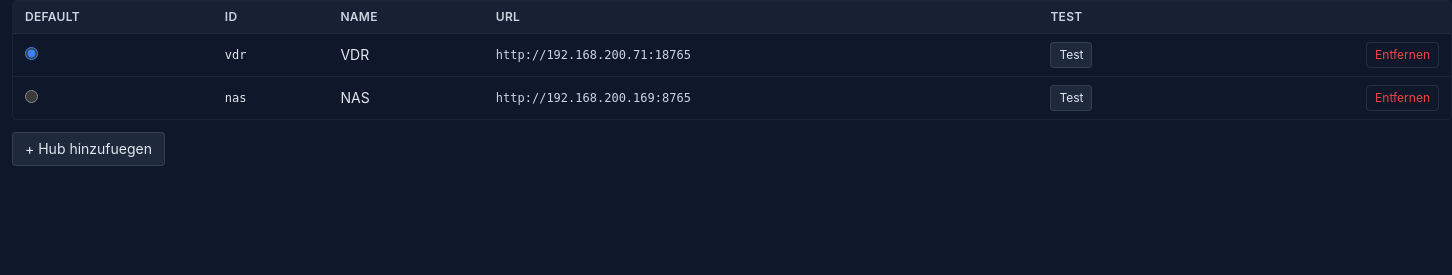
Scenario: HubListEditor › lehnt ungueltige URL im Add-Form ab
Click the button "+ Hub hinzufuegen" at (88, 149), box [12,132,165,166]
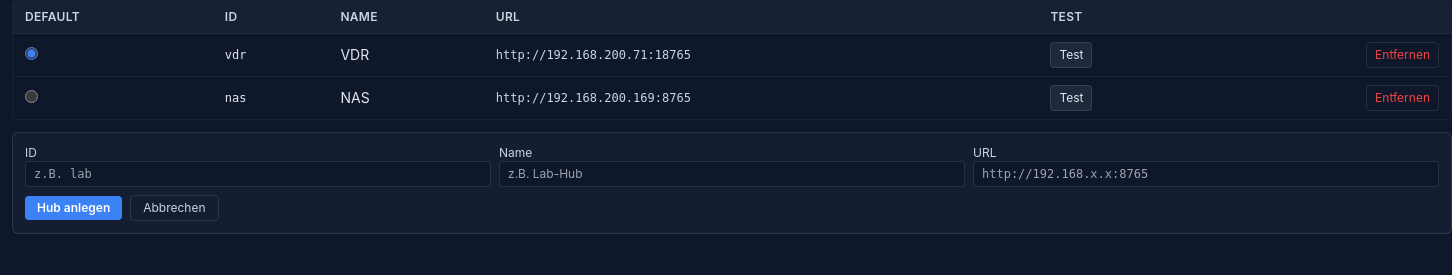
Type "lab" into the field with placeholder "z.B. lab" at (258, 174), box [25,161,491,187]
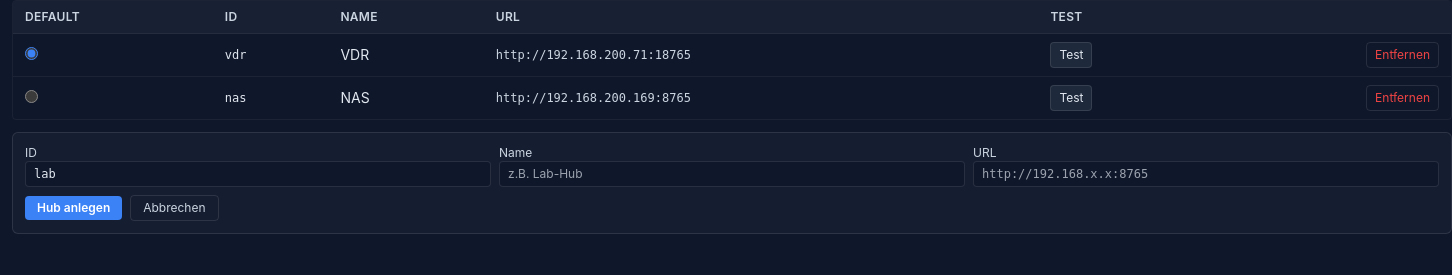
Type "Lab" into the field with placeholder "z.B. Lab-Hub" at (732, 174), box [499,161,965,187]
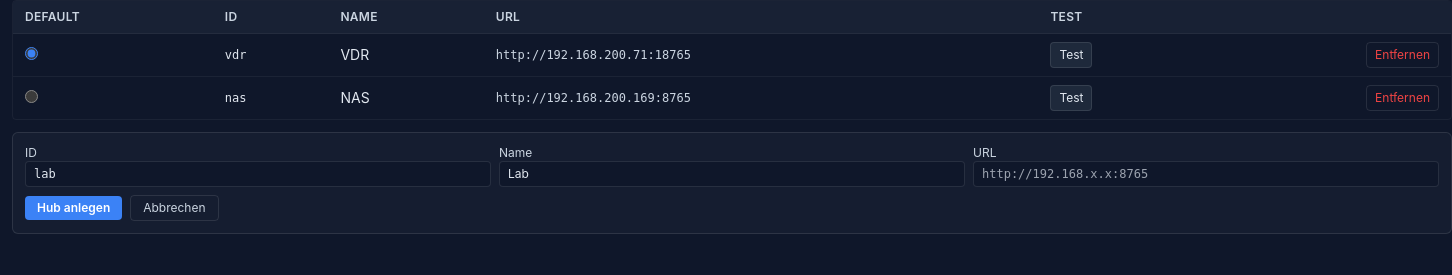
Type "10.0.0.5:8765" into the field with placeholder "http://192.168.x.x:8765" at (1206, 174), box [973,161,1439,187]
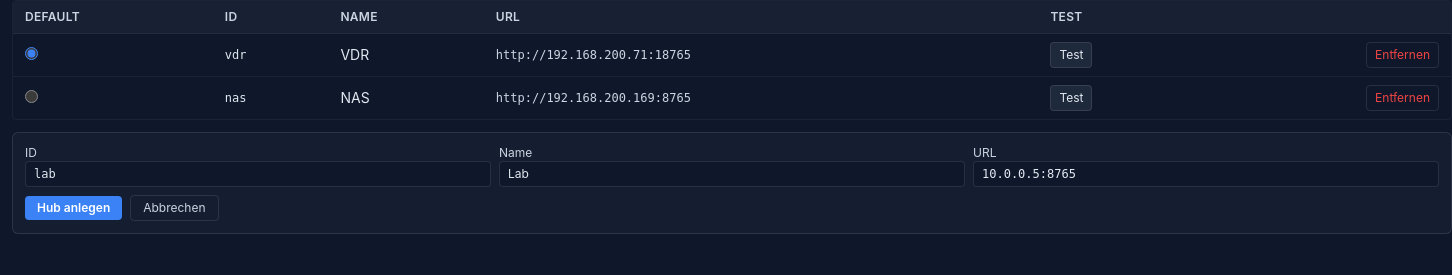
Click the button "Hub anlegen" at (74, 208), box [25,196,122,220]
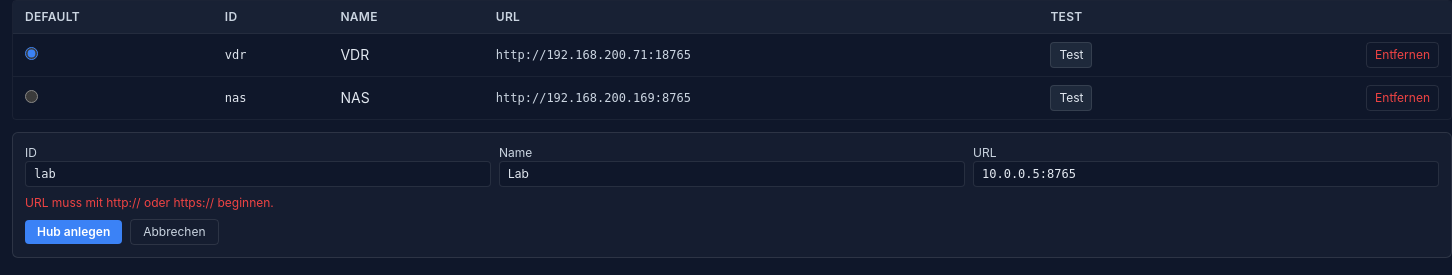
Result: the message with test id "hub-add-error" shows "http://" at [25,195,274,210]
